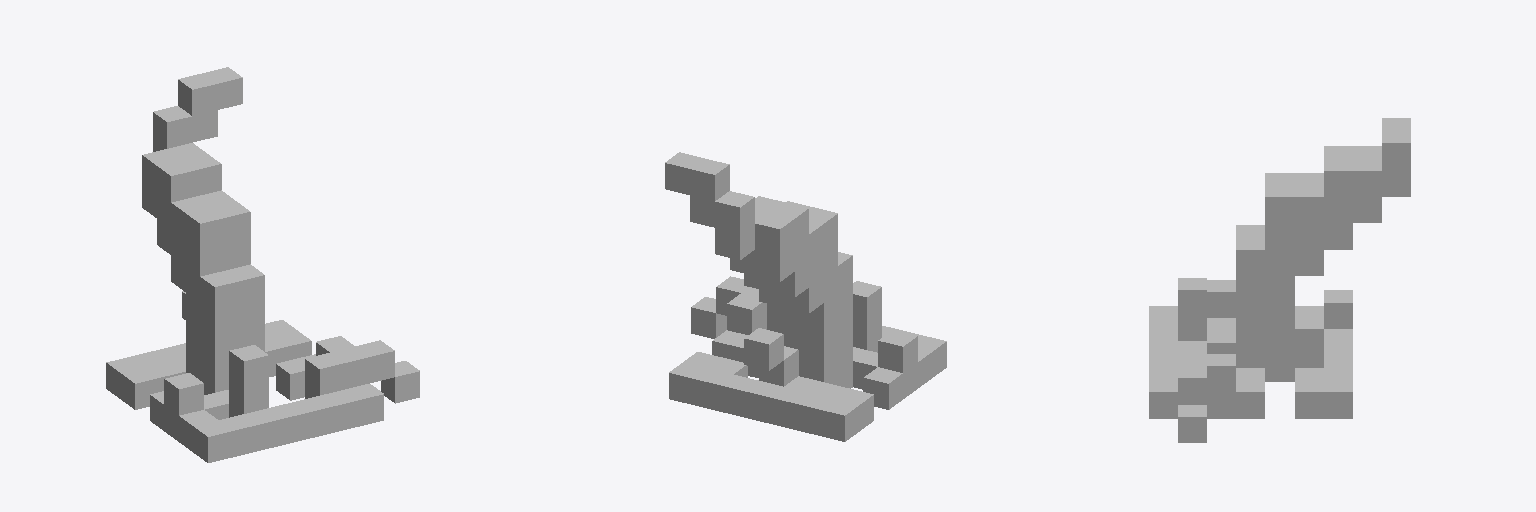
File: environ-deck1-kraken-2.obj
The picture shows the model from 3 angles: view 1: azimuth 30°, elevation 25°; view 2: azimuth 150°, elevation 25°; view 3: azimuth 270°, elevation 25°; orthographic projection.
Visible parts, largest first — view 1: deck1-kraken-2; view 2: deck1-kraken-2; view 3: deck1-kraken-2.
Boxes of the visible parts, x1=… form: deck1-kraken-2: x1=106, y1=67, x2=419, y2=462; deck1-kraken-2: x1=665, y1=152, x2=946, y2=441; deck1-kraken-2: x1=1149, y1=118, x2=1410, y2=442.
Size of the model in its own units: 0.9 by 1 by 0.9.